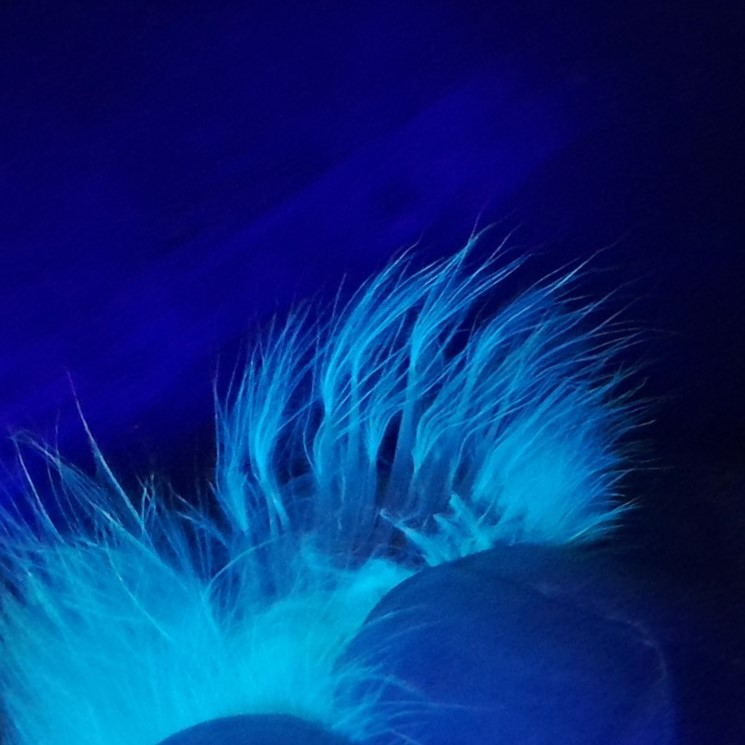male: (208, 330, 574, 628)
